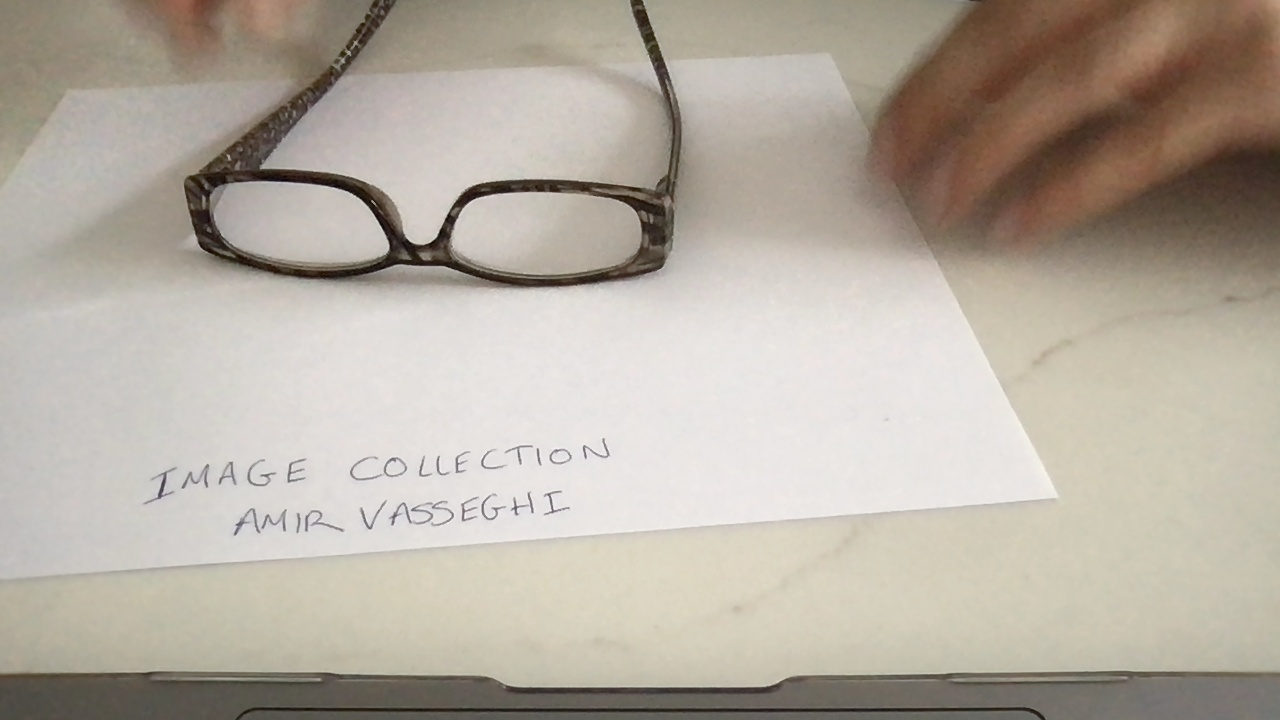glasses: (182, 4, 683, 287)
